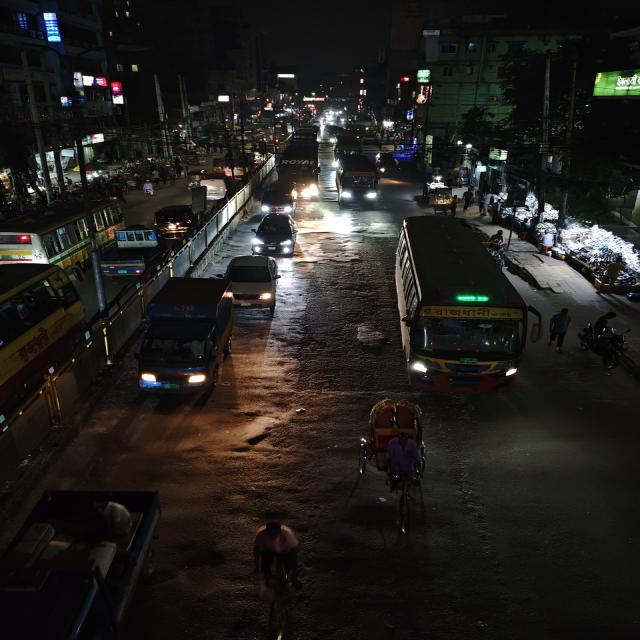bicycle: (246, 514, 309, 638), (140, 177, 156, 203)
bus: (392, 215, 530, 397), (0, 262, 84, 446), (0, 198, 125, 270), (334, 152, 382, 207), (276, 138, 324, 190)
car: (225, 253, 282, 311), (249, 212, 301, 256), (150, 201, 198, 235), (255, 180, 302, 214), (197, 171, 241, 200)
pedestrian: (584, 328, 632, 370), (545, 306, 574, 352)
pickup_van: (2, 488, 172, 640), (96, 224, 165, 279)
rickshaw: (356, 396, 432, 542)
truck: (137, 275, 237, 397)
